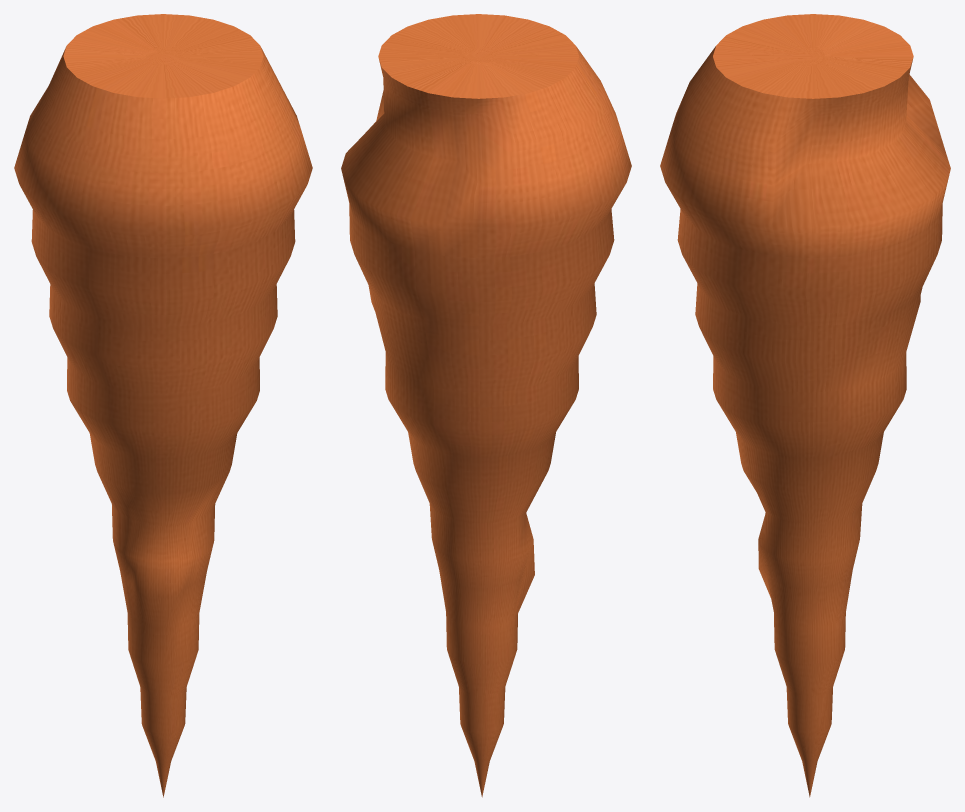
File: carrot.obj
3 renders of one model, left to right at view 1: azimuth 30°, elevation 25°; view 2: azimuth 150°, elevation 25°; view 3: azimuth 270°, elevation 25°, orthographic.
Parts seen in each view (by area): view 1: Cone001; view 2: Cone001; view 3: Cone001.
Part boxes in pixels (x1,y1,x2,y2): Cone001: (14,14,312,797); Cone001: (341,14,631,797); Cone001: (660,14,950,797).
Bounding box in the file's own units: 9.24 × 25.71 × 9.13.
